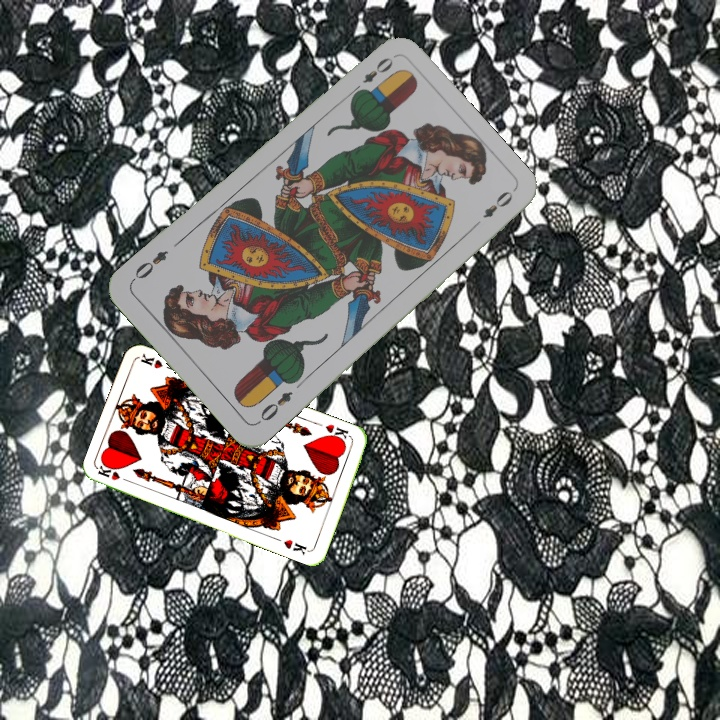EO: (347, 53, 396, 98), (253, 387, 296, 427)
HK: (95, 462, 135, 485), (321, 420, 353, 445)
